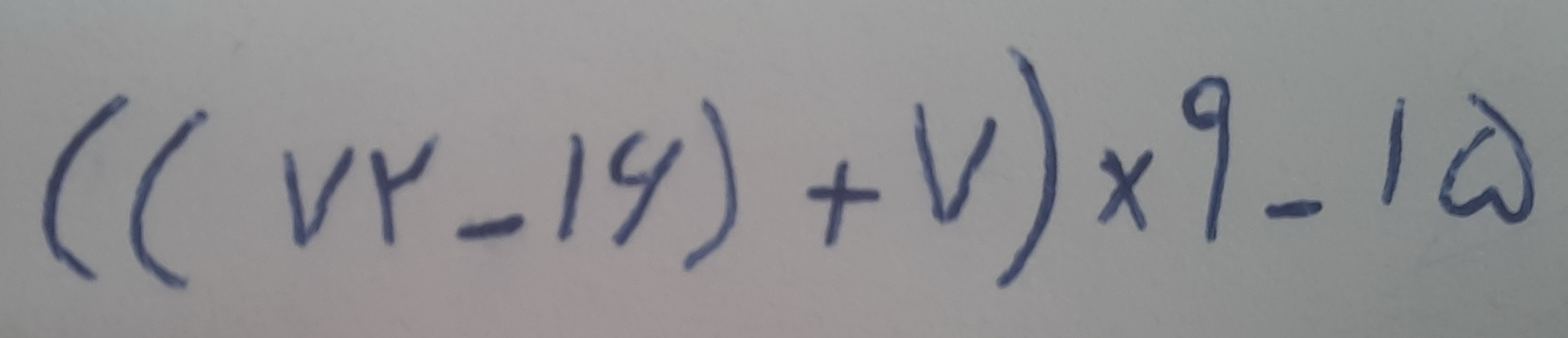character: (37, 88, 132, 287), (991, 42, 1062, 294), (129, 108, 213, 293), (1436, 90, 1538, 225), (908, 99, 1001, 230), (679, 96, 739, 276), (603, 126, 688, 250), (1178, 72, 1236, 245), (276, 141, 358, 251), (365, 135, 440, 247), (801, 156, 885, 253), (1095, 144, 1158, 237), (551, 129, 591, 247), (1375, 95, 1410, 212), (449, 207, 529, 247), (1262, 195, 1326, 222)
